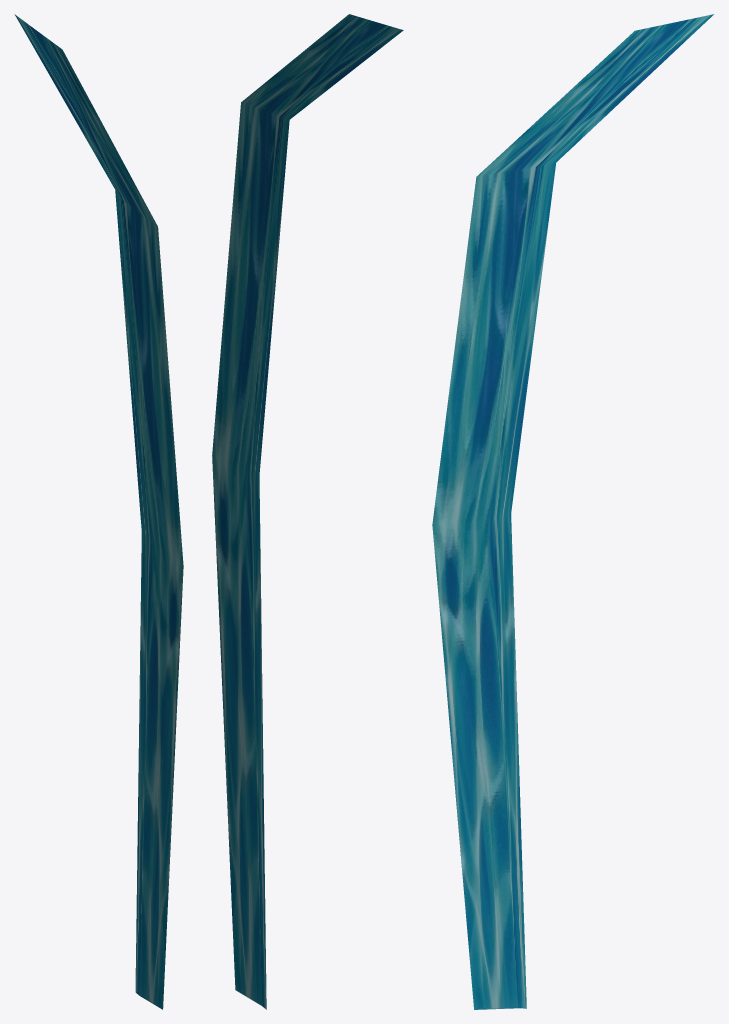
File: cemian_water.FBX
The picture shows the model from 3 angles, left to right: view 1: azimuth 30°, elevation 25°; view 2: azimuth 210°, elevation 25°; view 3: azimuth 270°, elevation 25°; orthographic projection. The views are drawn at different scales.
Visible parts, largest first — view 1: cemian_water; view 2: cemian_water; view 3: cemian_water.
Boxes of the visible parts, x1,y1,x2,y2 form: cemian_water: (14,14,183,1009); cemian_water: (212,14,403,1009); cemian_water: (432,14,713,1009).
Size of the model in its own units: 0.227 by 5.53 by 1.45.
